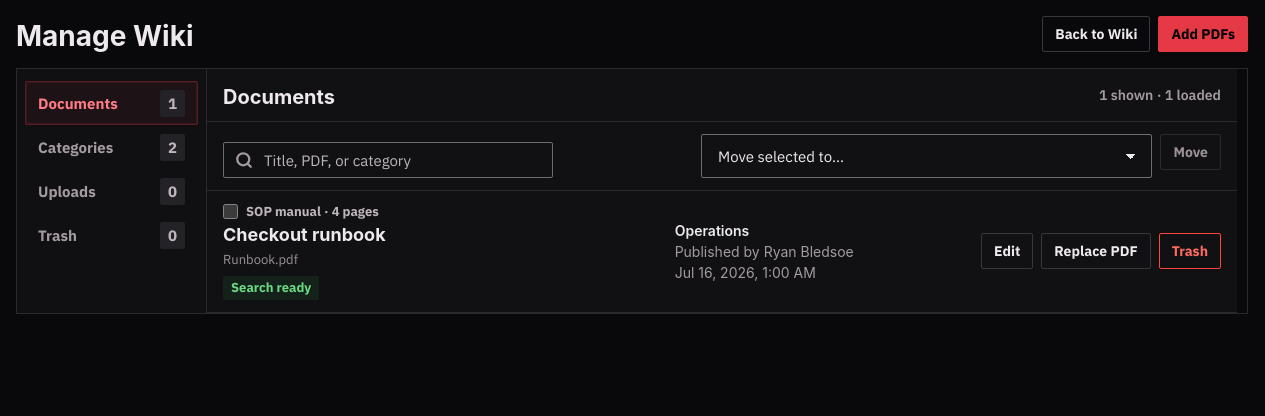
KnowledgeManagementWorkspace › preserves an in-progress document edit across section navigation
This screenshot has width=1265, height=416.
Click the button "Edit". click: (1007, 251)
box: x1=981 y1=233 x2=1033 y2=269
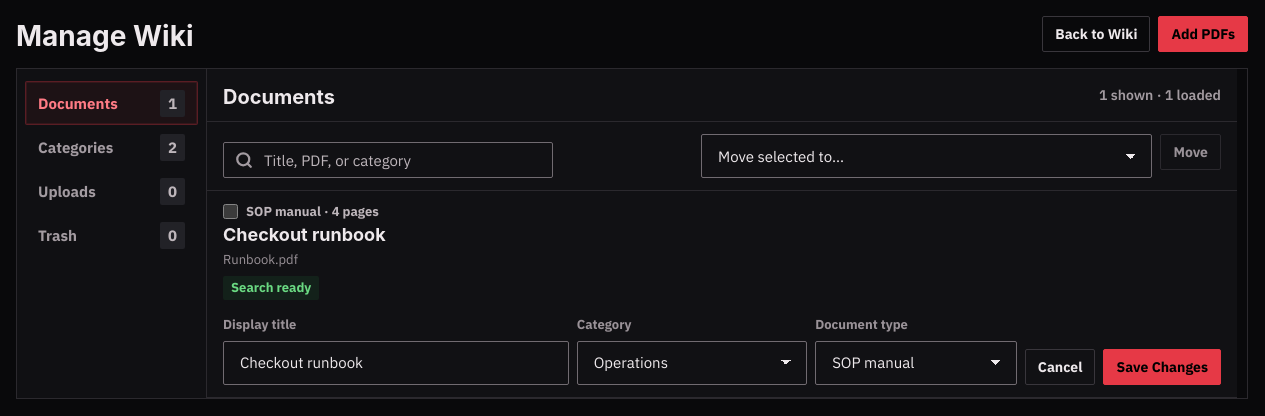
Replace the text in the field labelled "Display title" with "Operator-edited title". click: (396, 363)
box: x1=223 y1=341 x2=569 y2=385
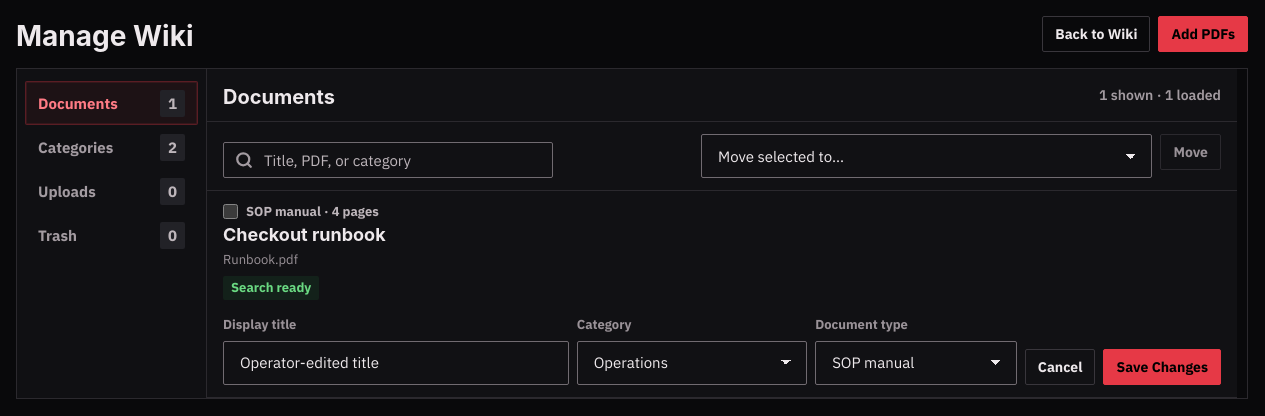
Click the button "Categories 2". click: (112, 147)
box: x1=25 y1=125 x2=198 y2=169
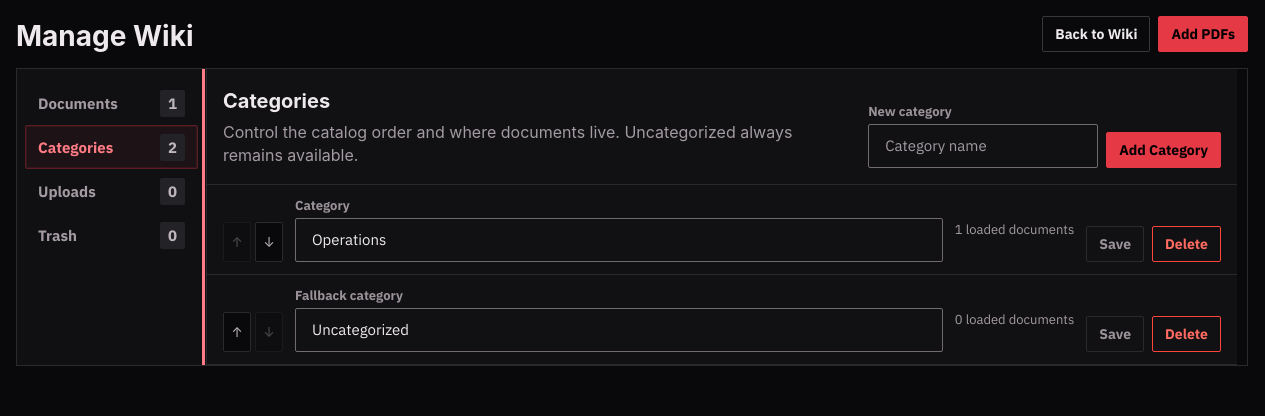
Click the button "Documents 1". click: (112, 103)
box: x1=25 y1=81 x2=198 y2=125
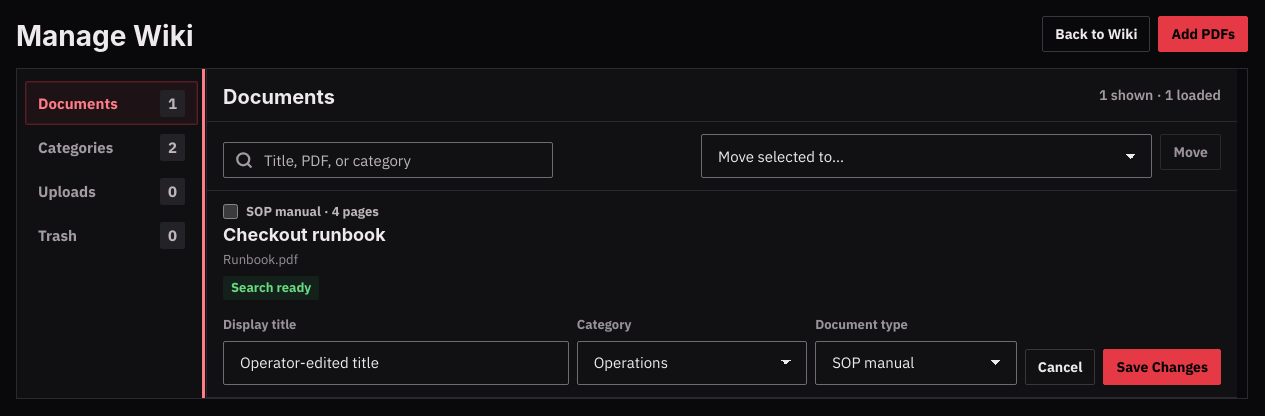
Expected: the field labelled "Display title" holds "Operator-edited title", x1=223 y1=341 x2=569 y2=385
